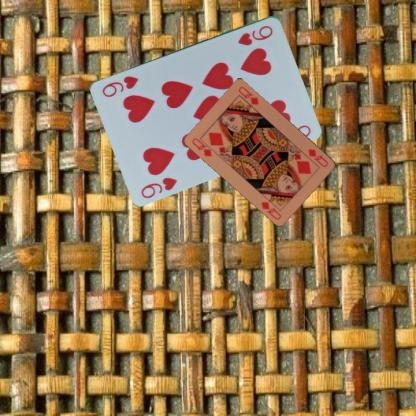9h: (138, 174, 179, 199), (235, 22, 275, 47)
Qd: (190, 135, 218, 158), (306, 146, 330, 168)
